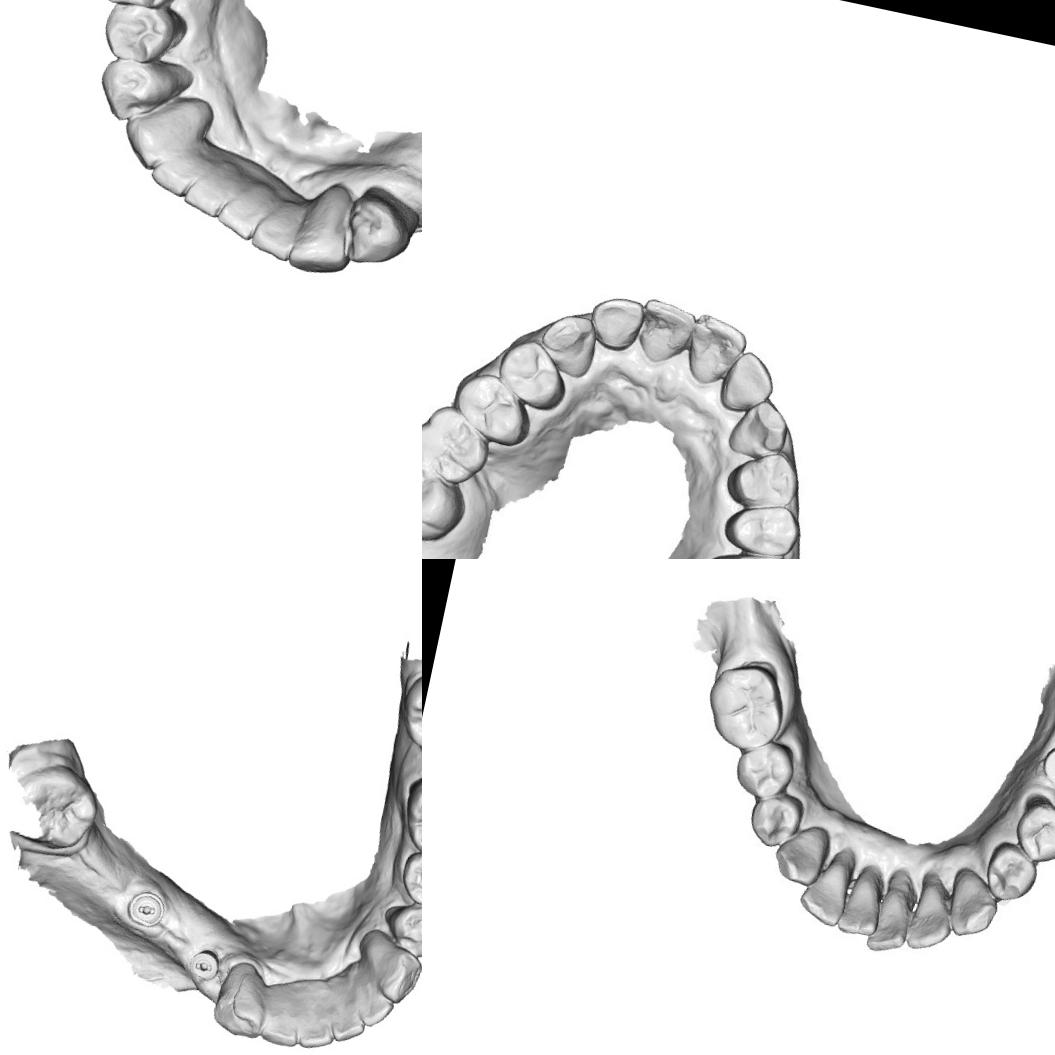canine: (284, 186, 361, 280), (115, 98, 196, 178), (346, 925, 422, 1008), (209, 954, 275, 1042), (723, 398, 791, 468), (538, 308, 602, 382), (945, 867, 1005, 944), (769, 818, 832, 890)
implant: (1041, 744, 1055, 787)
implant_minus: (123, 887, 168, 930), (186, 945, 222, 983)
incisor: (795, 838, 856, 931), (634, 296, 704, 376), (684, 310, 748, 385), (902, 879, 961, 958), (862, 882, 916, 961), (246, 199, 308, 264), (720, 350, 777, 414), (837, 863, 885, 939), (210, 185, 268, 244), (142, 144, 200, 202), (588, 293, 642, 351), (178, 167, 232, 221), (292, 999, 340, 1054), (258, 997, 306, 1050), (350, 984, 398, 1032), (320, 1000, 368, 1046)
molar: (3, 756, 106, 857), (699, 656, 790, 756), (422, 404, 493, 485), (422, 448, 471, 551), (393, 655, 422, 767), (395, 766, 422, 867), (687, 540, 794, 559)
premolar: (722, 441, 806, 518), (92, 52, 170, 129), (96, 0, 179, 71), (345, 188, 414, 272), (497, 336, 569, 416), (456, 371, 529, 442), (728, 734, 798, 806), (721, 499, 803, 559), (978, 838, 1042, 906), (742, 786, 804, 854), (1006, 792, 1055, 868), (375, 895, 422, 962), (396, 848, 422, 912)
